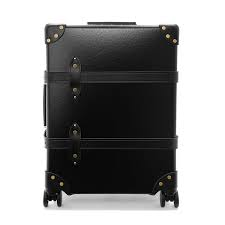suitcase: (37, 17, 185, 210)
